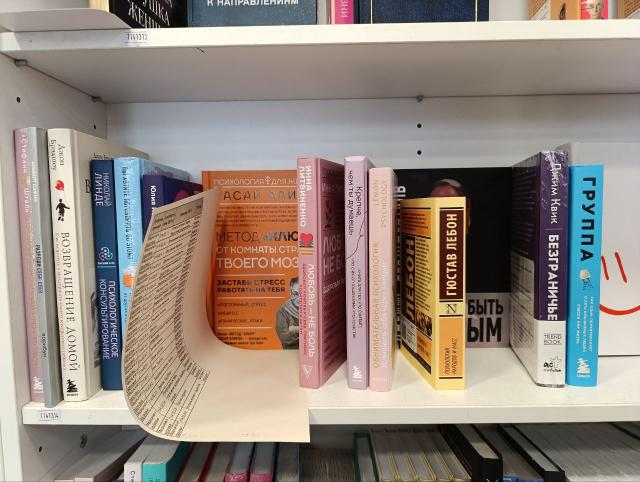book-s-spine: (46, 128, 88, 405), (13, 126, 45, 402), (566, 164, 605, 387), (90, 158, 123, 392), (537, 150, 569, 388), (28, 126, 53, 409), (435, 196, 467, 392), (114, 157, 144, 346), (344, 156, 368, 390), (369, 167, 392, 393), (297, 156, 319, 390)
